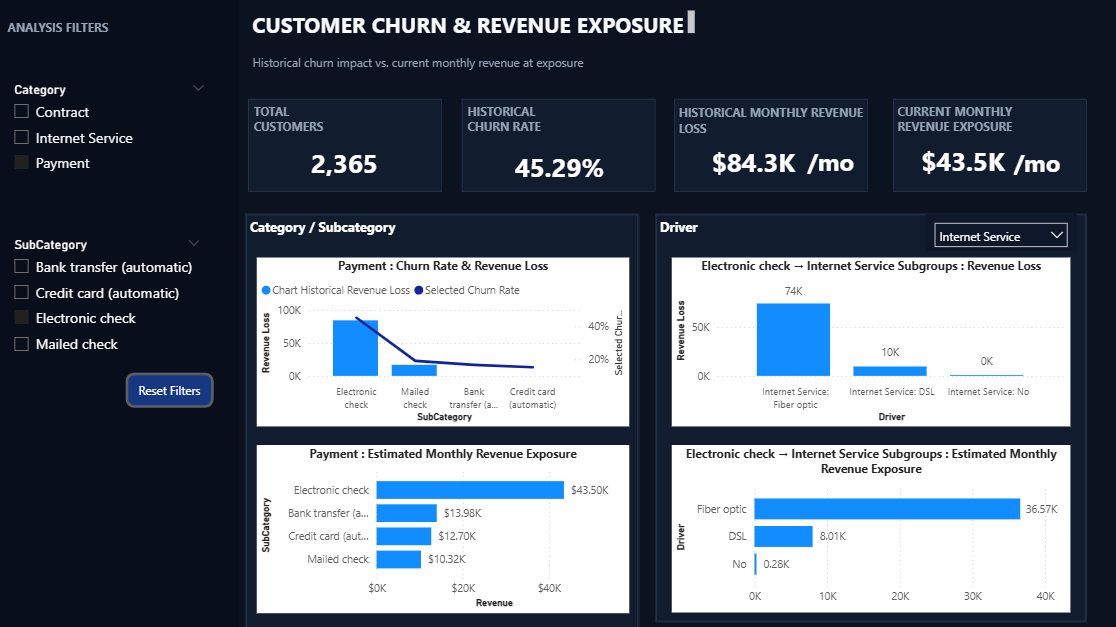

This screenshot's page, from the dashboard's own definition file:
{"tool":"powerbi","page":{"name":"Page 1","canvas":[1280,720],"ordinal":0},"visuals":[{"type":"shape","box":[0,0,278.7,720.2],"z":0},{"type":"textbox","box":[288.8,12.8,510.9,38.5],"z":1000},{"type":"textbox","box":[11.6,23.1,128.4,38.5],"z":2000},{"type":"slicer","fields":{"Values":["Category.Category"]},"box":[11.6,93.7,240,128.4],"z":3000},{"type":"slicer","fields":{"Values":["CategorySubCategory.SubCategory"]},"box":[11.6,268.3,234.9,148.9],"z":4000},{"type":"textbox","box":[288.8,61.6,510.9,32.1],"z":5000},{"type":"shape","box":[288.8,116.8,219.5,105.3],"z":6000},{"type":"shape","box":[530.1,116.8,219.5,105.3],"z":7000},{"type":"shape","box":[771.4,116.8,219.5,105.3],"z":8000},{"type":"shape","box":[1017.9,116.8,219.5,105.3],"z":9000},{"type":"textbox","box":[290.1,116.8,219.5,50.1],"z":10000},{"type":"textbox","box":[531.4,116.8,218.2,50.1],"z":11000},{"type":"textbox","box":[771.4,119.4,219.5,50.1],"z":12000},{"type":"textbox","box":[1017.9,118.1,219.5,53.9],"z":13000},{"type":"shape","box":[285.8,247.6,445.6,472.5],"z":14000},{"type":"shape","box":[749.8,247.6,488.1,462.6],"z":16000},{"type":"clusteredBarChart","fields":{"Category":["CategorySubCategory.SubCategory"],"Y":["Measures (2).Selected Current Monthly Revenue Exposure"]},"box":[298.5,509.3,421.6,190],"z":19000},{"type":"card","fields":{"Values":["Measures (2).Selected Customers"]},"box":[340.2,165.6,116.8,51.3],"z":20000},{"type":"card","fields":{"Values":["Measures (2).Selected Churn Rate Display"]},"box":[581.5,169.4,119.4,51.3],"z":21000},{"type":"card","fields":{"Values":["Measures (2).Selected Historical Revenue Loss Display"]},"box":[771,164.1,179.7,52.3],"z":22000},{"type":"textbox","box":[916.1,165.6,75.3,45.2],"z":23000},{"type":"textbox","box":[1150.7,167.6,75.7,45.9],"z":24000},{"type":"actionButton","box":[150.7,426.6,99.8,39.9],"z":25000},{"type":"card","fields":{"Values":["Measures (2).Current Revenue Exposure Display"]},"box":[1034,163.8,127.9,49.7],"z":26000},{"type":"lineClusteredColumnComboChart","fields":{"Y":["Measures (2).Chart Historical Revenue Loss"],"Y2":["Measures (2).Selected Churn Rate"],"Category":["CategorySubCategory.SubCategory"]},"box":[298.5,297.1,421.6,191],"z":27000},{"type":"lineClusteredColumnComboChart","fields":{"Category":["DriverValues.Driver Label"],"Y":["Measures (2).Driver Historical Revenue Loss"]},"box":[768.2,297.1,451.3,191],"z":28000},{"type":"clusteredBarChart","fields":{"Category":["DriverValues.DriverValue"],"Y":["Measures (2).Driver Current Revenue Exposure"]},"box":[768.2,509.3,451.3,189.6],"z":29000},{"type":"slicer","fields":{"Values":["DriverValues.Driver"]},"box":[1055.4,247.6,171.2,42.4],"z":31000},{"type":"textbox","box":[749.8,247.6,100.4,41],"z":32000},{"type":"textbox","box":[285.8,247.6,185.3,41],"z":33000}]}

Visuals, with their boxes in screenshot pixels (x1, y1, x2, y2), scaled from the page's 1280x720 canvas onto the 1116x627 screenshot:
shape: box(0, 0, 243, 626)
textbox: box(252, 11, 697, 45)
textbox: box(10, 20, 122, 54)
slicer - Category.Category: box(10, 82, 219, 193)
slicer - CategorySubCategory.SubCategory: box(10, 234, 215, 363)
textbox: box(252, 54, 697, 82)
shape: box(252, 102, 443, 193)
shape: box(462, 102, 654, 193)
shape: box(673, 102, 864, 193)
shape: box(887, 102, 1079, 193)
textbox: box(253, 102, 444, 145)
textbox: box(463, 102, 654, 145)
textbox: box(673, 104, 864, 148)
textbox: box(887, 103, 1079, 150)
shape: box(249, 216, 638, 626)
shape: box(654, 216, 1079, 618)
clusteredBarChart - CategorySubCategory.SubCategory x Measures (2).Selected Current Monthly Revenue Exposure: box(260, 444, 628, 609)
card - Measures (2).Selected Customers: box(297, 144, 398, 189)
card - Measures (2).Selected Churn Rate Display: box(507, 148, 611, 192)
card - Measures (2).Selected Historical Revenue Loss Display: box(672, 143, 829, 188)
textbox: box(799, 144, 864, 184)
textbox: box(1003, 146, 1069, 186)
actionButton: box(131, 371, 218, 406)
card - Measures (2).Current Revenue Exposure Display: box(902, 143, 1013, 186)
lineClusteredColumnComboChart - Measures (2).Chart Historical Revenue Loss x Measures (2).Selected Churn Rate: box(260, 259, 628, 425)
lineClusteredColumnComboChart - DriverValues.Driver Label x Measures (2).Driver Historical Revenue Loss: box(670, 259, 1063, 425)
clusteredBarChart - DriverValues.DriverValue x Measures (2).Driver Current Revenue Exposure: box(670, 444, 1063, 609)
slicer - DriverValues.Driver: box(920, 216, 1069, 253)
textbox: box(654, 216, 741, 251)
textbox: box(249, 216, 411, 251)
